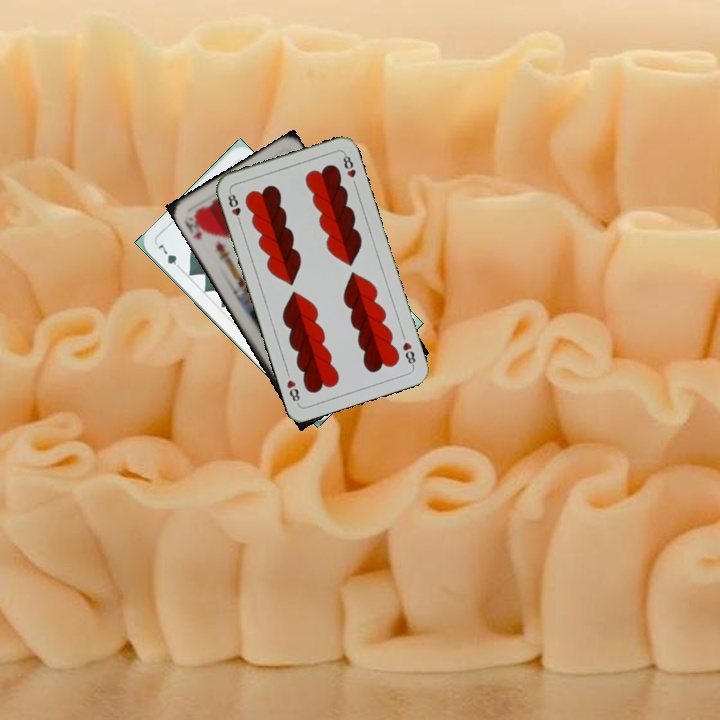G7: (153, 239, 185, 273)
H8: (224, 187, 244, 227), (398, 338, 418, 369)
HK: (180, 210, 208, 242)
